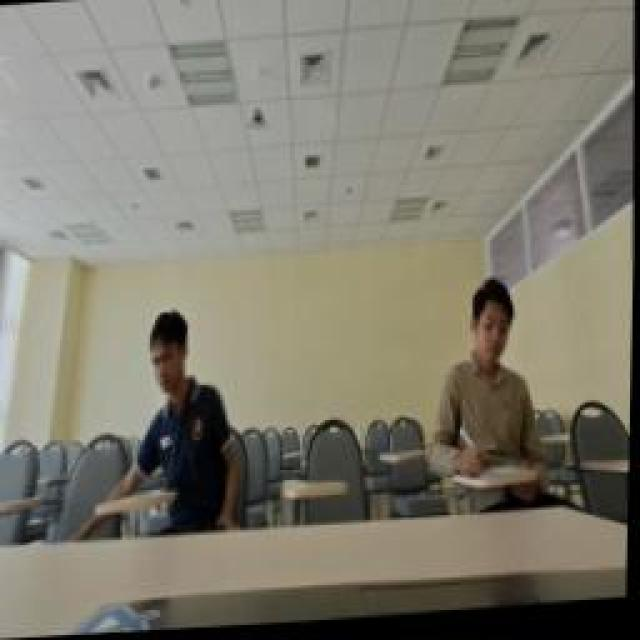study: (425, 278, 553, 482)
